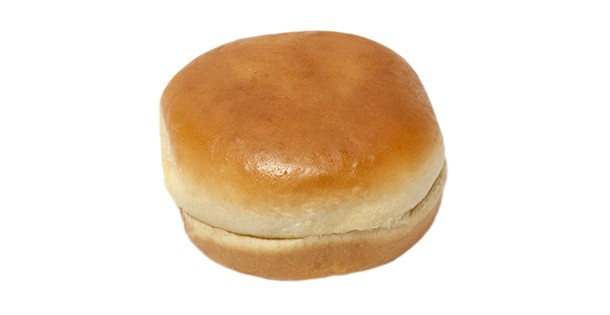hamburger_buns: (148, 14, 484, 278)
